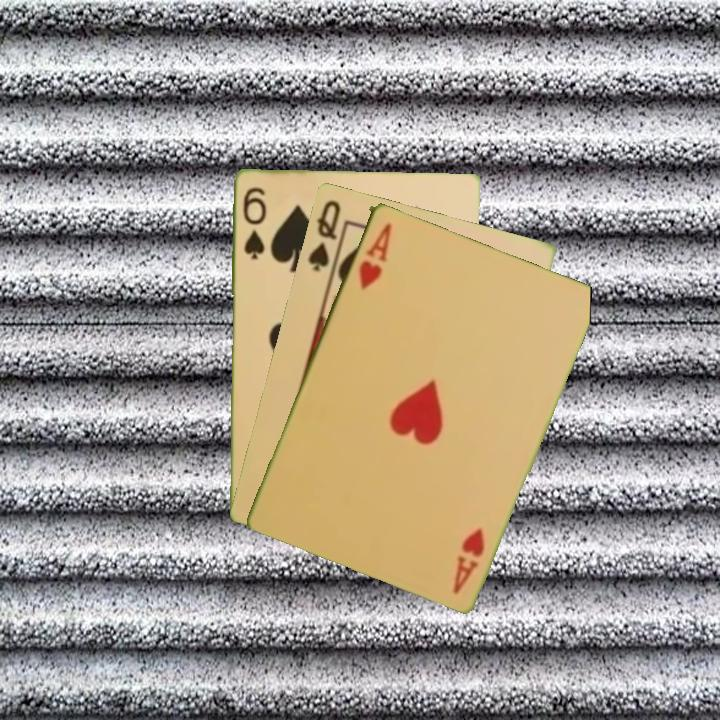6s: (239, 183, 269, 262)
Ah: (355, 218, 394, 293), (449, 523, 487, 597)
Qs: (304, 196, 343, 274)
